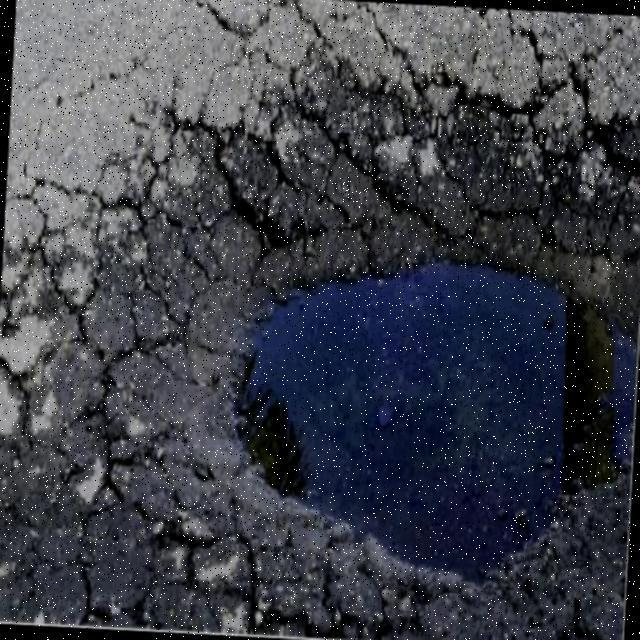Pothole: (83, 87, 640, 640)
